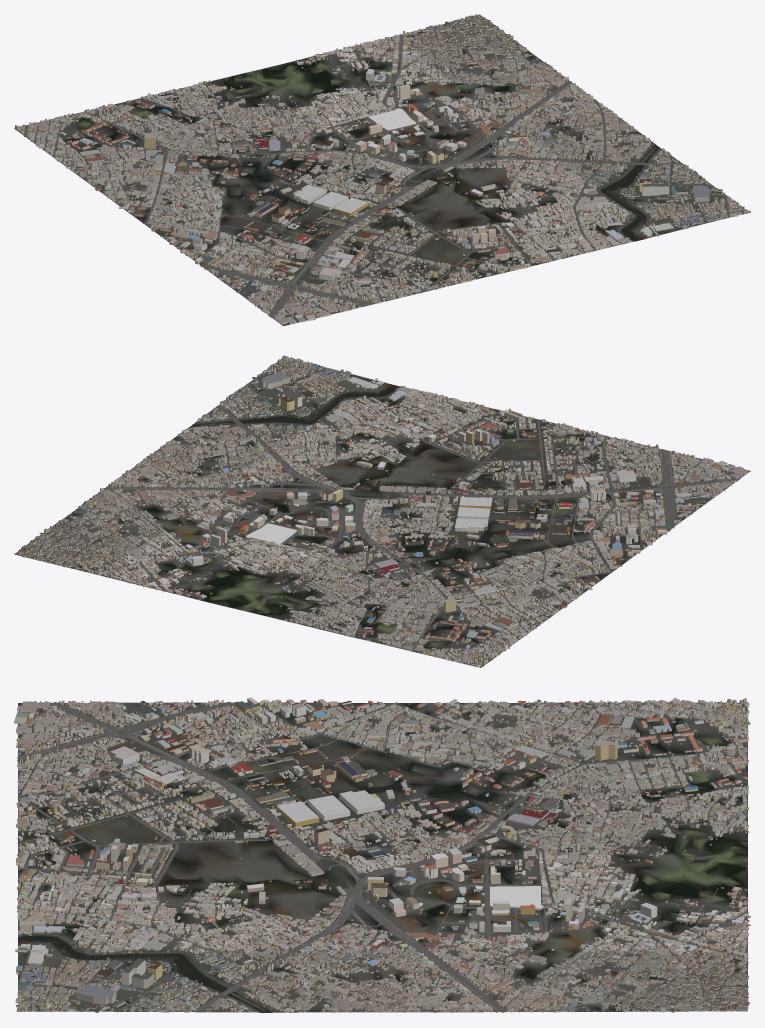
3 renders of one model, top to bottom at view 1: azimuth 30°, elevation 25°; view 2: azimuth 150°, elevation 25°; view 3: azimuth 270°, elevation 25°, orthographic. The views are drawn at different scales.
Parts seen in each view (by area): view 1: buildings, ground, roads, water; view 2: buildings, ground, roads, water; view 3: buildings, ground, roads, water.
Boxes of the visible parts, x1,y1,x2,y2 form: buildings: (15,14,750,324); ground: (14,18,746,325); roads: (14,19,729,322); water: (262,142,659,240); buildings: (15,355,748,667); ground: (14,359,750,667); roads: (28,362,739,666); water: (190,384,490,552); buildings: (14,697,750,1013); ground: (18,702,747,1012); roads: (17,701,748,1012); water: (18,783,447,1013).
Bounding box in the file's own units: 2833 × 78.5 × 2828.
